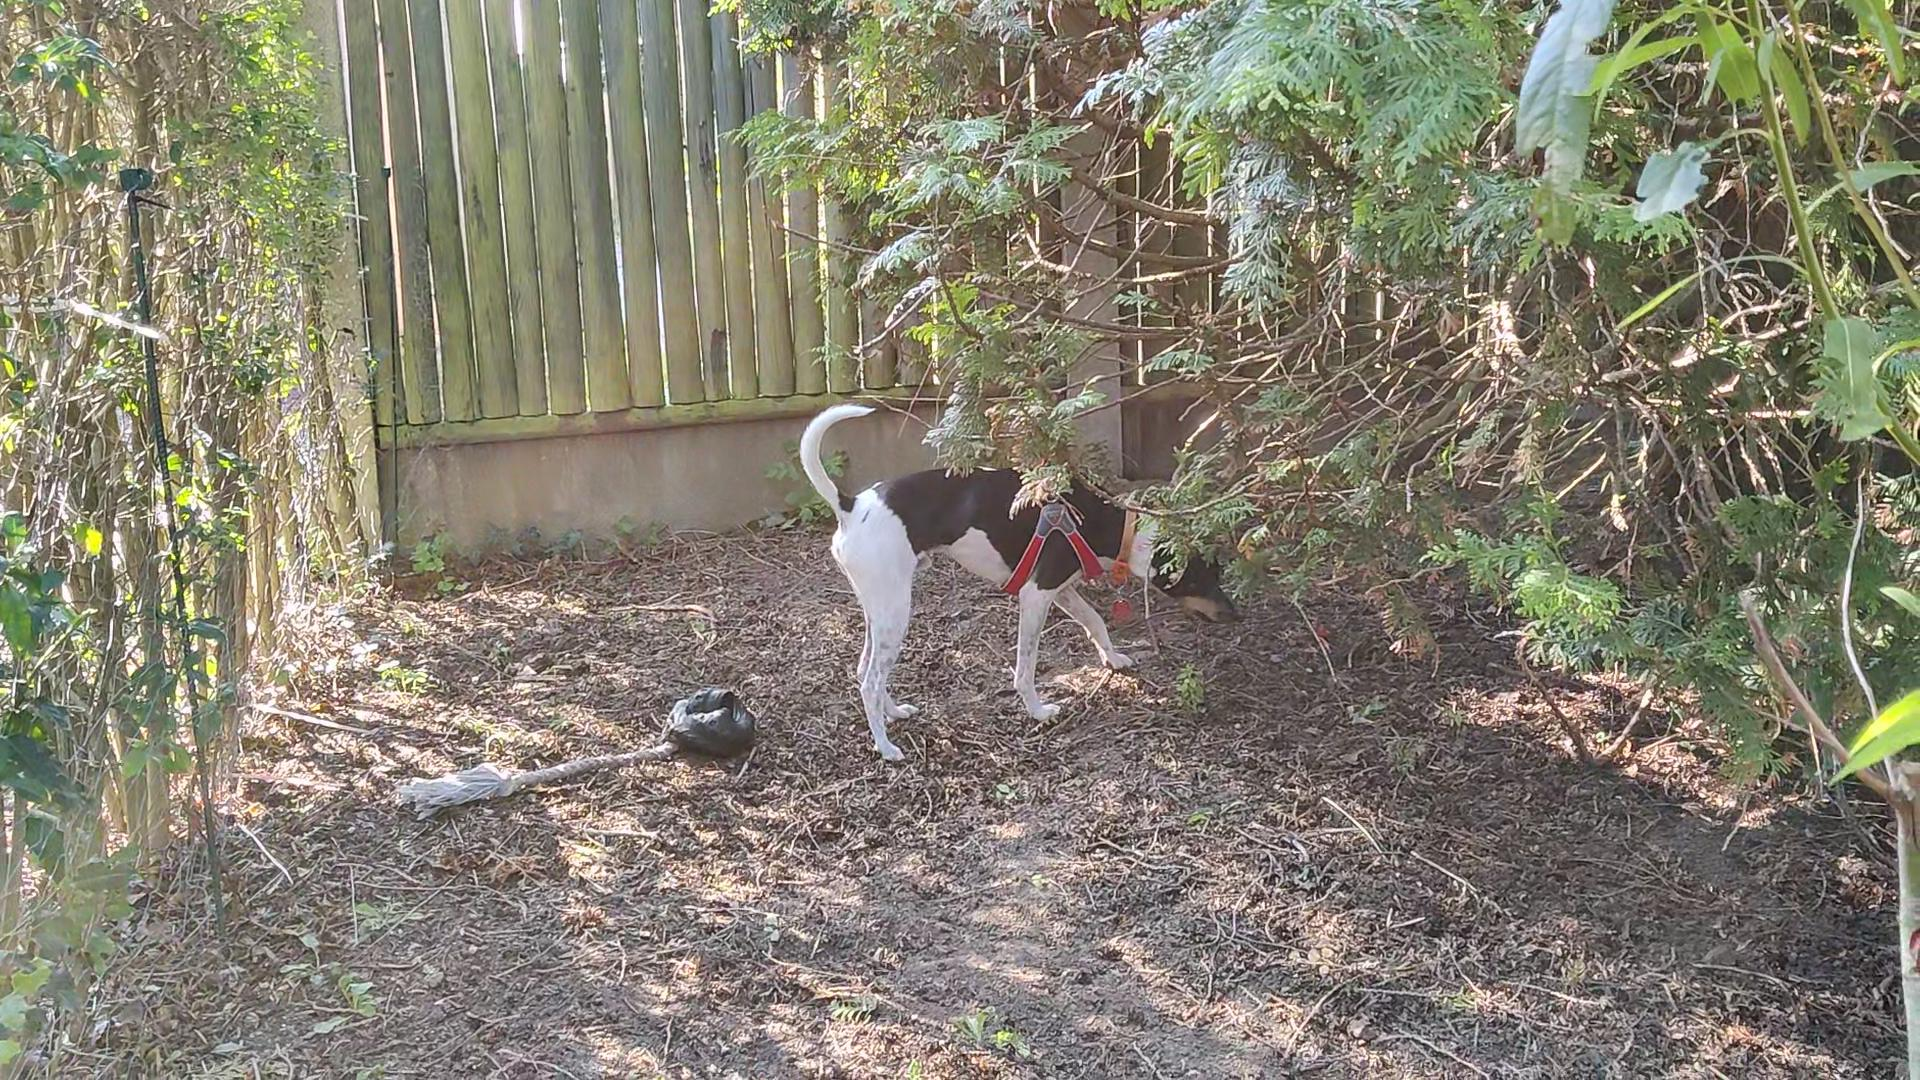Dog: (793, 397, 1247, 765)
